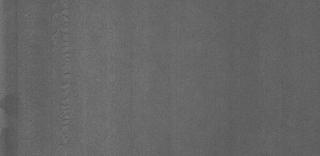silk spot: (49, 2, 77, 148)
